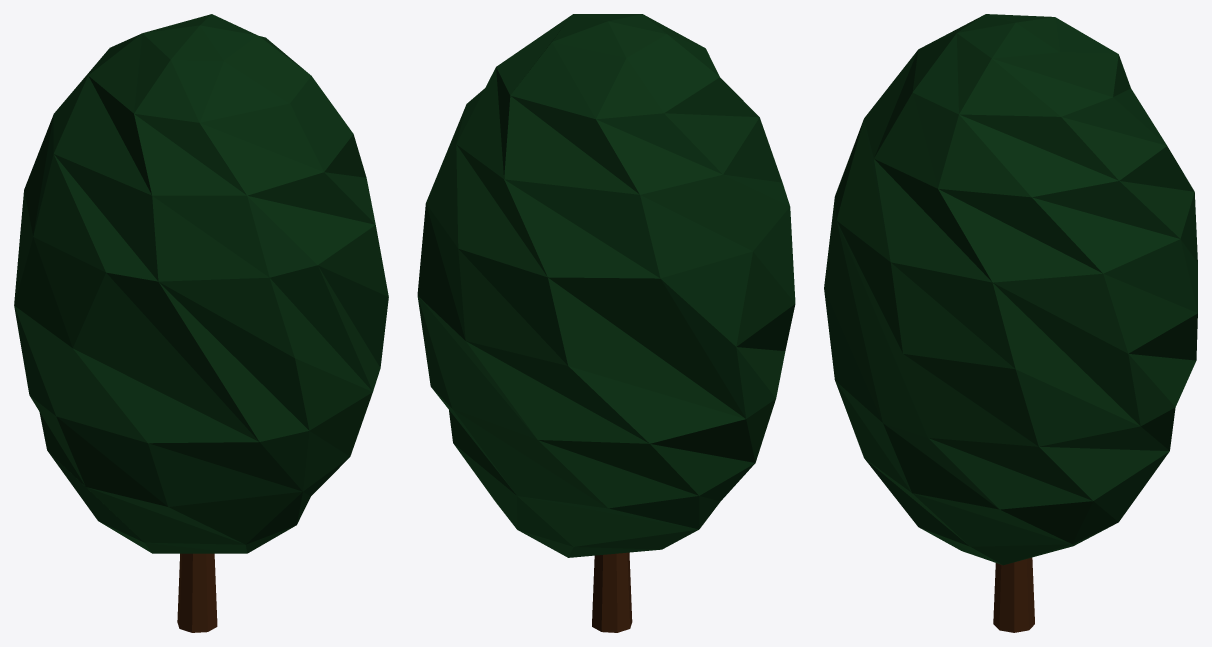
Rendered from Bush_c_b_01.fbx.
The picture shows the model from 3 angles, left to right: view 1: azimuth 30°, elevation 25°; view 2: azimuth 150°, elevation 25°; view 3: azimuth 270°, elevation 25°; orthographic projection.
Visible parts, largest first — view 1: Bush_c_b_01_LOD0; view 2: Bush_c_b_01_LOD0; view 3: Bush_c_b_01_LOD0.
Part boxes in pixels (x1,y1,x2,y2): Bush_c_b_01_LOD0: (14,14,388,632); Bush_c_b_01_LOD0: (417,14,795,632); Bush_c_b_01_LOD0: (824,14,1197,632).
Size of what is drawn, in the model's own units: 23.1 by 41.11 by 23.1.
